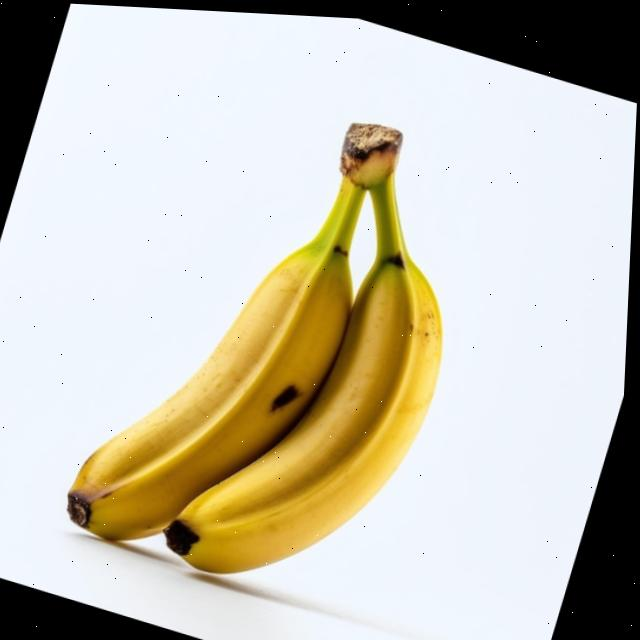Banana: (171, 169, 444, 569), (73, 172, 367, 538)
